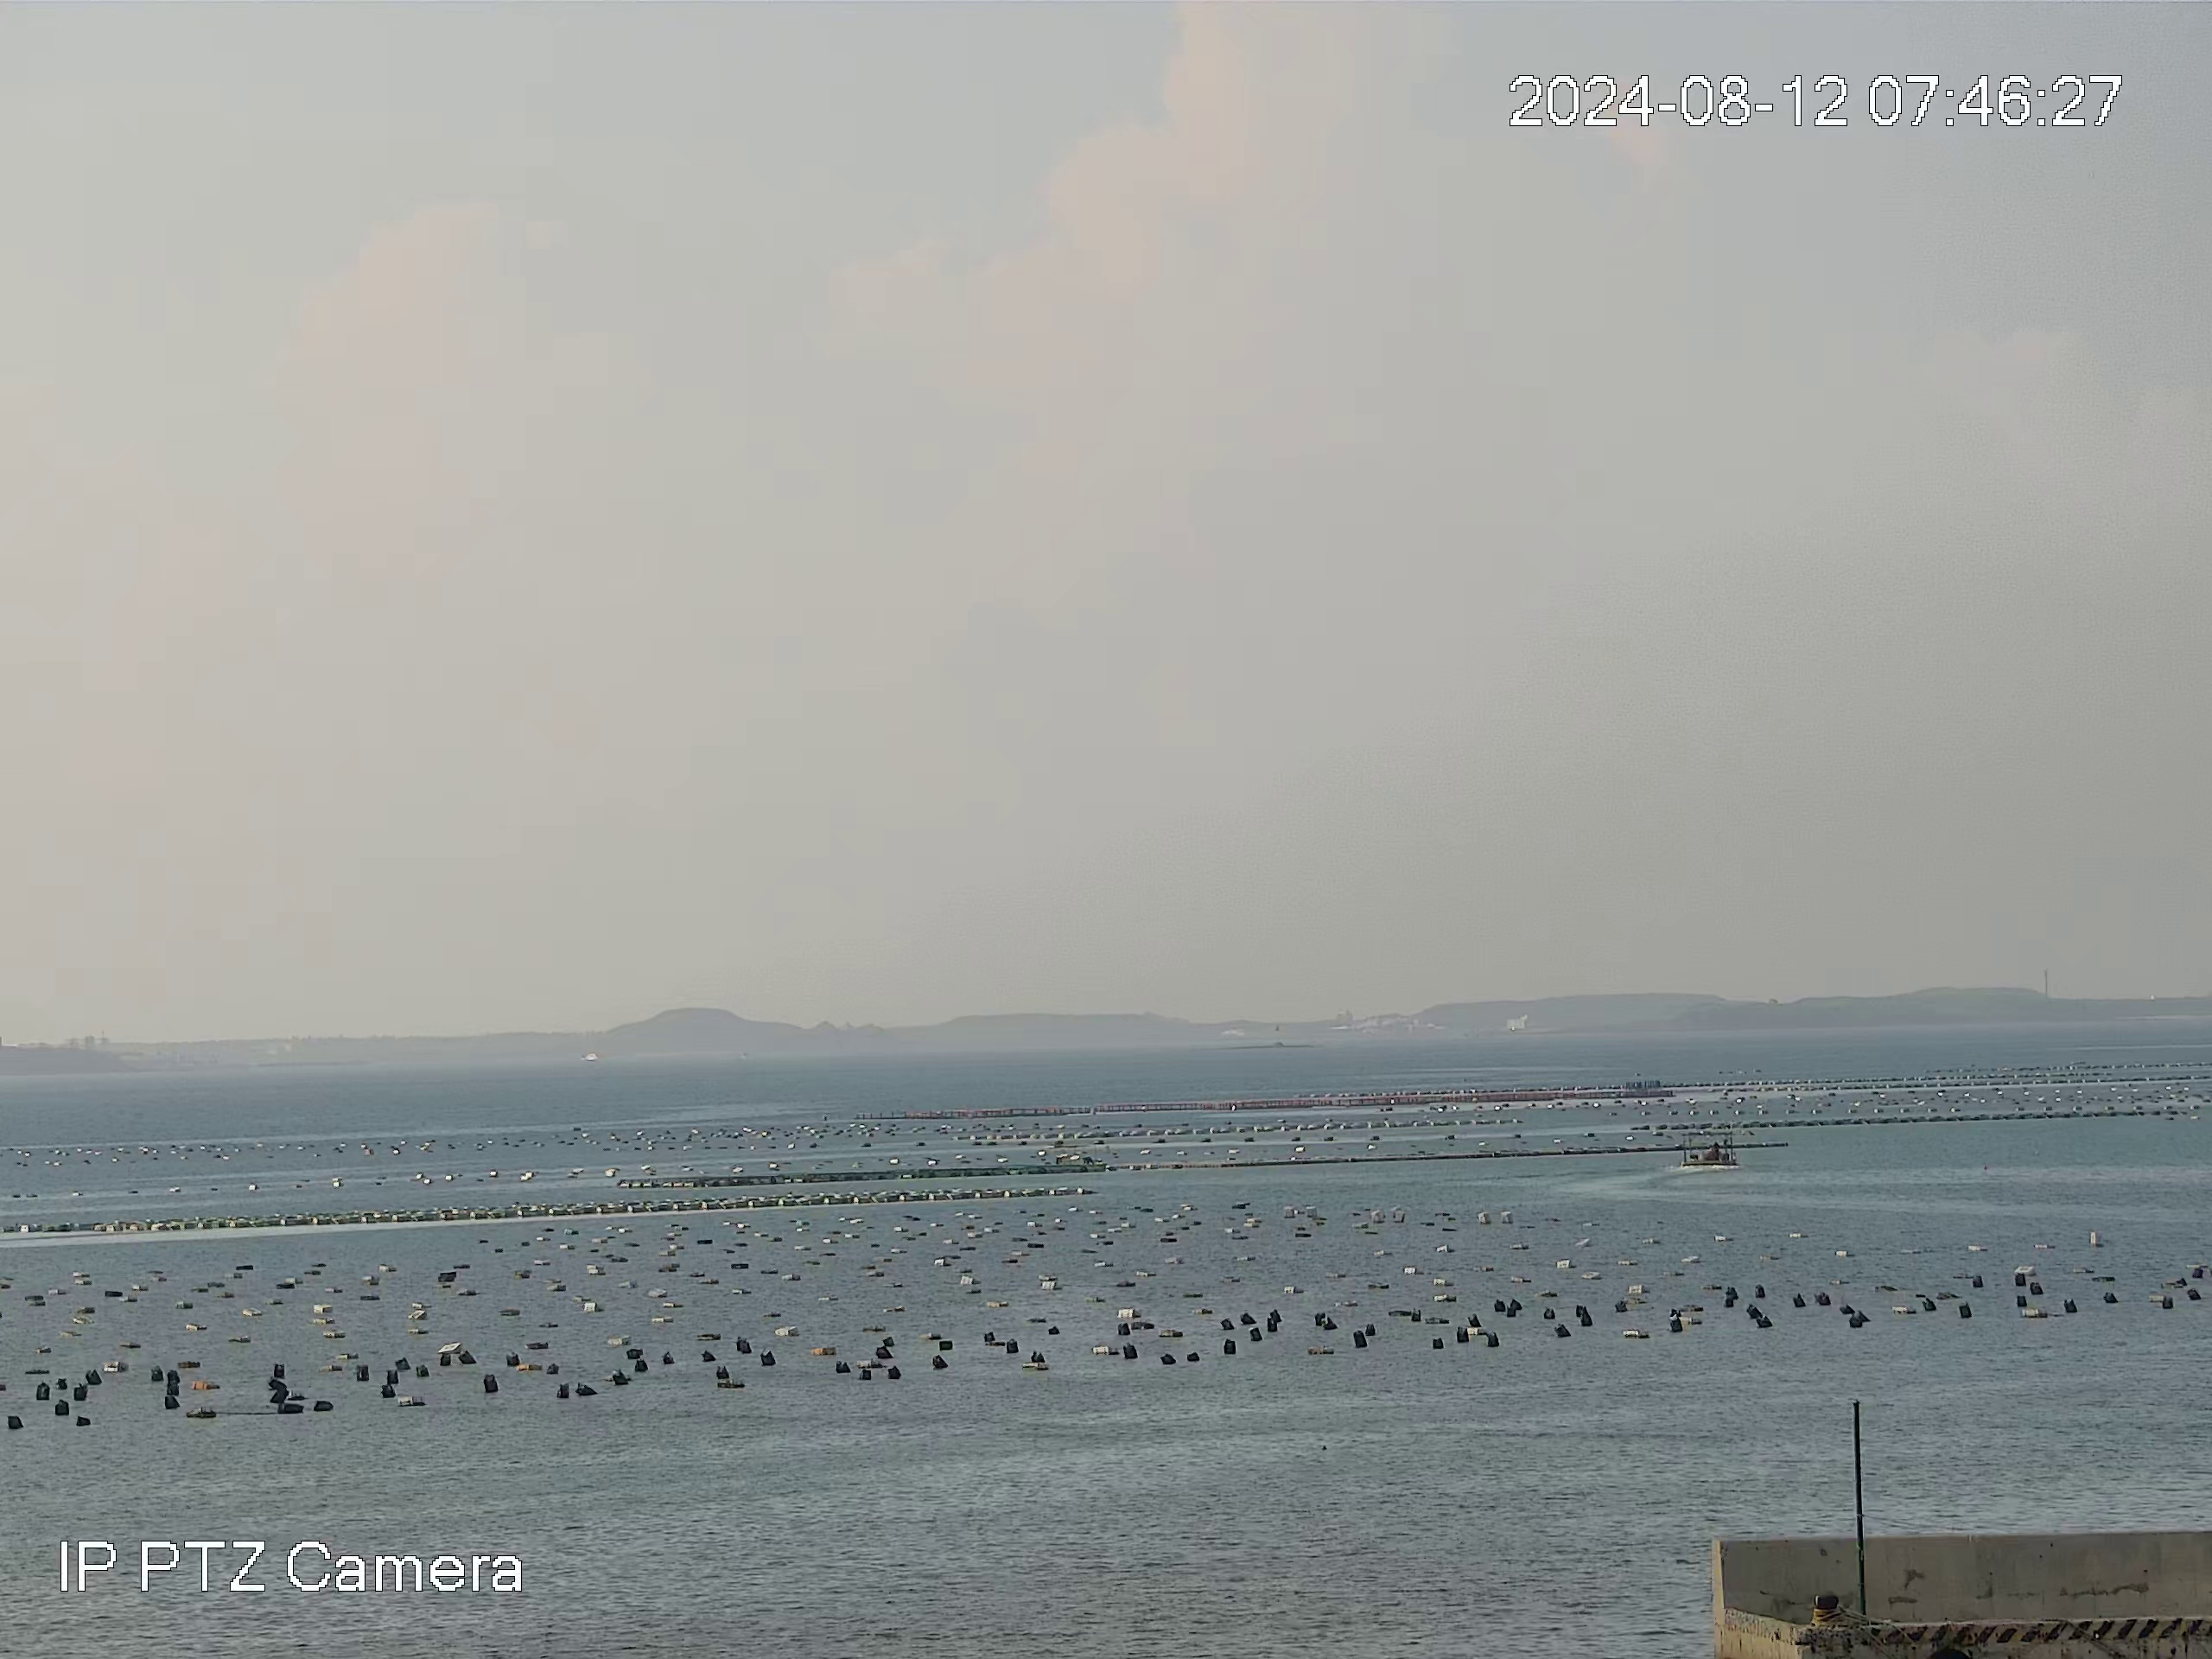boat: (1679, 1129, 1738, 1168)
